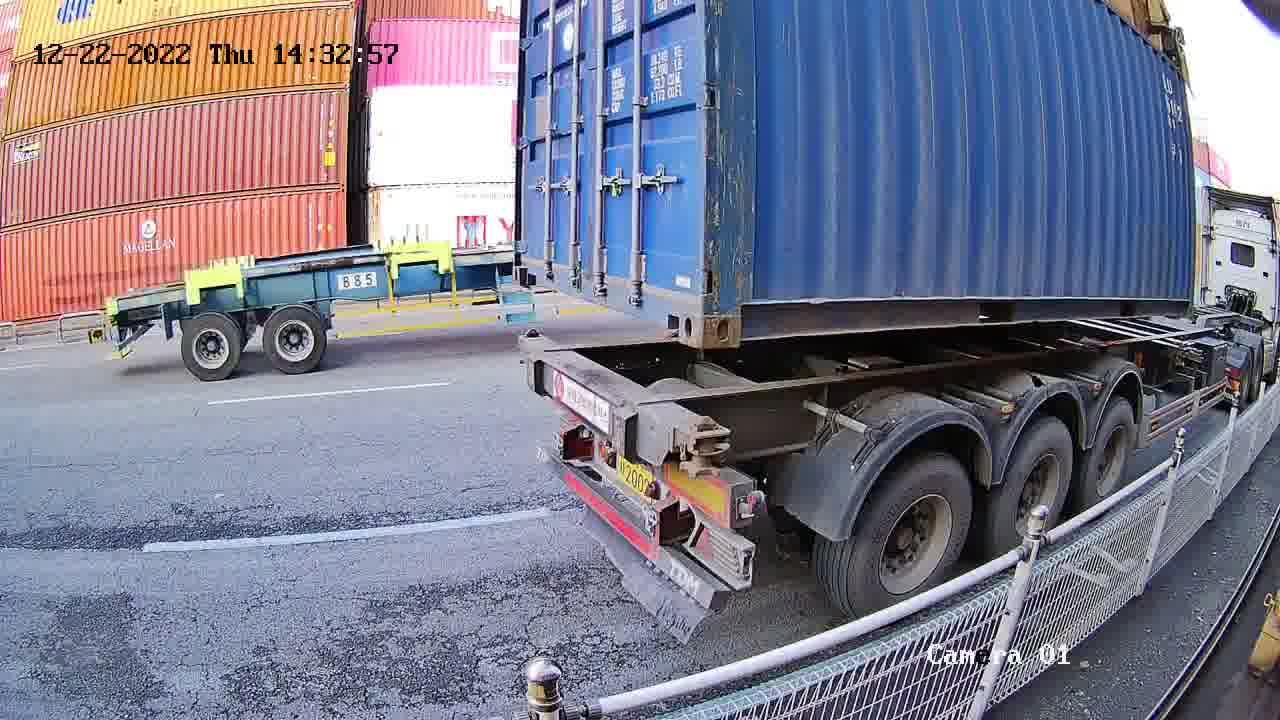Chassis: (519, 332, 724, 466)
Cone: (679, 417, 728, 480), (516, 326, 549, 345)
Hole_L: (703, 277, 775, 349), (512, 249, 545, 288)
Hole_R: (649, 269, 702, 352)
Tire: (848, 458, 974, 618), (997, 420, 1070, 549), (1086, 405, 1136, 498)
